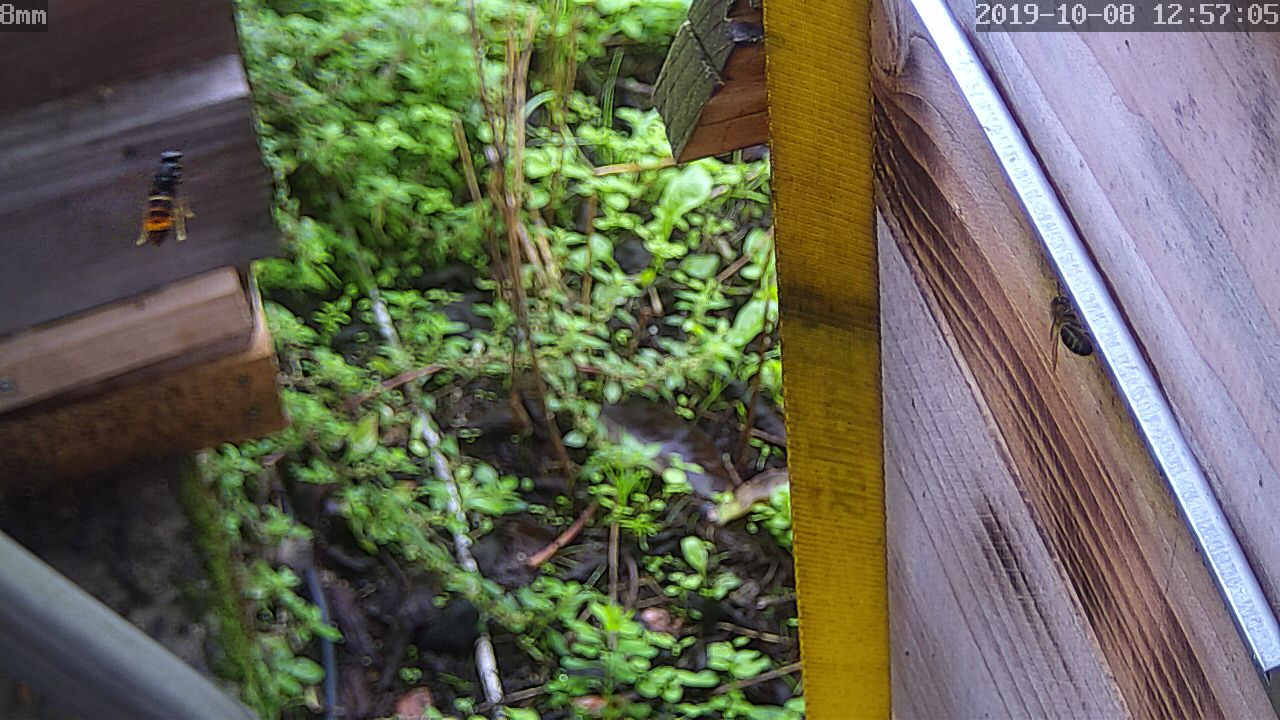bee: (1035, 283, 1094, 361)
hornet: (121, 148, 196, 253)
